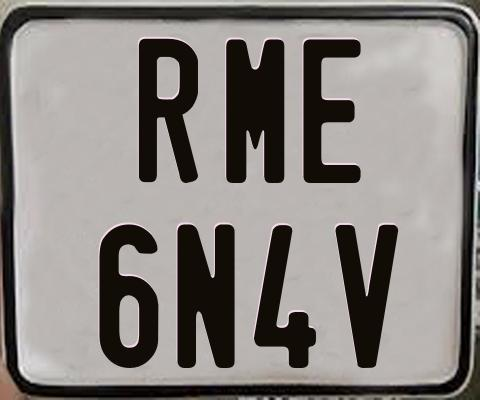4: (253, 224, 320, 367)
6: (96, 221, 159, 368)
E: (303, 39, 365, 189)
M: (226, 37, 290, 181)
N: (176, 222, 238, 371)
R: (137, 37, 202, 185)
V: (332, 224, 400, 371)
